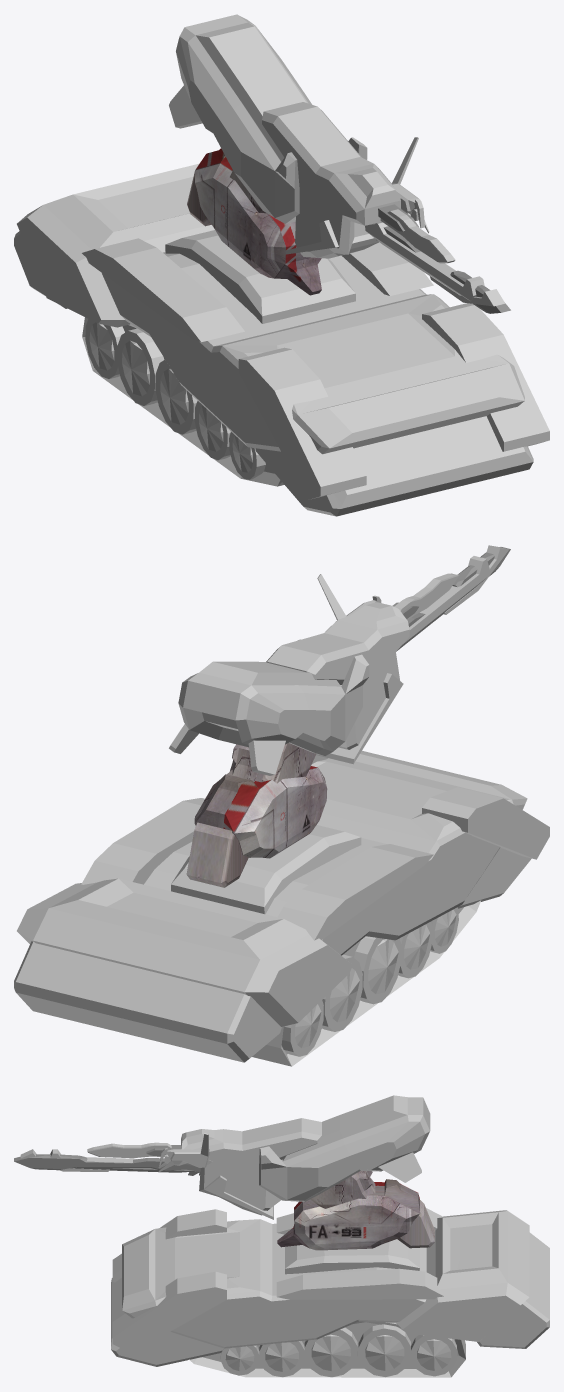
Rendered from red_tank_01.FBX.
3 views of the same model, one above another, from view 1: azimuth 30°, elevation 25°; view 2: azimuth 150°, elevation 25°; view 3: azimuth 270°, elevation 25° (orthographic). The views are drawn at different scales.
Parts seen in each view (by area): view 1: Body, Gun, Gun_Body, body02, Wheel_09, Wheel_08, Wheel_10, Wheel_Frame, Wheel_07, Wheel_06; view 2: Body, Gun, Gun_Body, body02, Wheel_08, Wheel_Frame, Wheel_09, Wheel_10, Wheel_07, Wheel_06; view 3: Body, Gun, Gun_Body, body02, Wheel_Frame, Wheel_04, Wheel_03, Wheel_05, Wheel_02, Wheel_01.
Part boxes in pixels (x1,y1,x2,y2): Body: [14, 164, 549, 516]; Gun: [169, 14, 510, 313]; Gun_Body: [187, 148, 321, 295]; body02: [165, 230, 355, 323]; Wheel_09: [117, 328, 164, 405]; Wheel_08: [155, 359, 197, 434]; Wheel_10: [85, 319, 124, 378]; Wheel_Frame: [82, 317, 284, 486]; Wheel_07: [194, 401, 230, 460]; Wheel_06: [229, 432, 265, 479]; Body: [14, 750, 549, 1062]; Gun: [169, 545, 510, 775]; Gun_Body: [186, 743, 327, 887]; body02: [171, 825, 361, 914]; Wheel_08: [354, 936, 401, 1004]; Wheel_Frame: [252, 900, 480, 1066]; Wheel_09: [322, 954, 362, 1031]; Wheel_10: [281, 1000, 323, 1056]; Wheel_07: [398, 921, 432, 978]; Wheel_06: [430, 907, 458, 953]; Body: [111, 1208, 549, 1366]; Gun: [14, 1095, 430, 1219]; Gun_Body: [277, 1170, 434, 1250]; body02: [285, 1239, 419, 1274]; Wheel_Frame: [189, 1321, 465, 1377]; Wheel_04: [358, 1324, 411, 1377]; Wheel_03: [304, 1327, 357, 1377]; Wheel_05: [411, 1335, 457, 1376]; Wheel_02: [259, 1341, 304, 1377]; Wheel_01: [220, 1345, 259, 1375].
Bounding box in the file's own units: 8.85 × 11.61 × 23.44.
